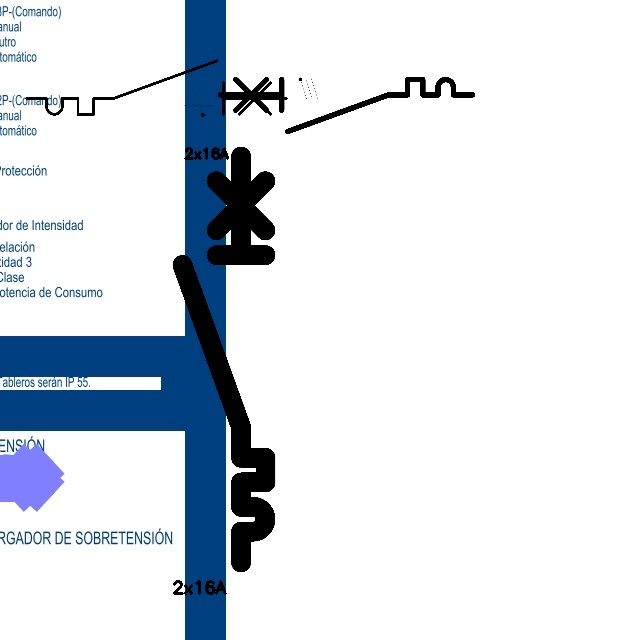interruptor_termomagnetico: (172, 146, 276, 573), (20, 54, 293, 121), (214, 73, 479, 138)
